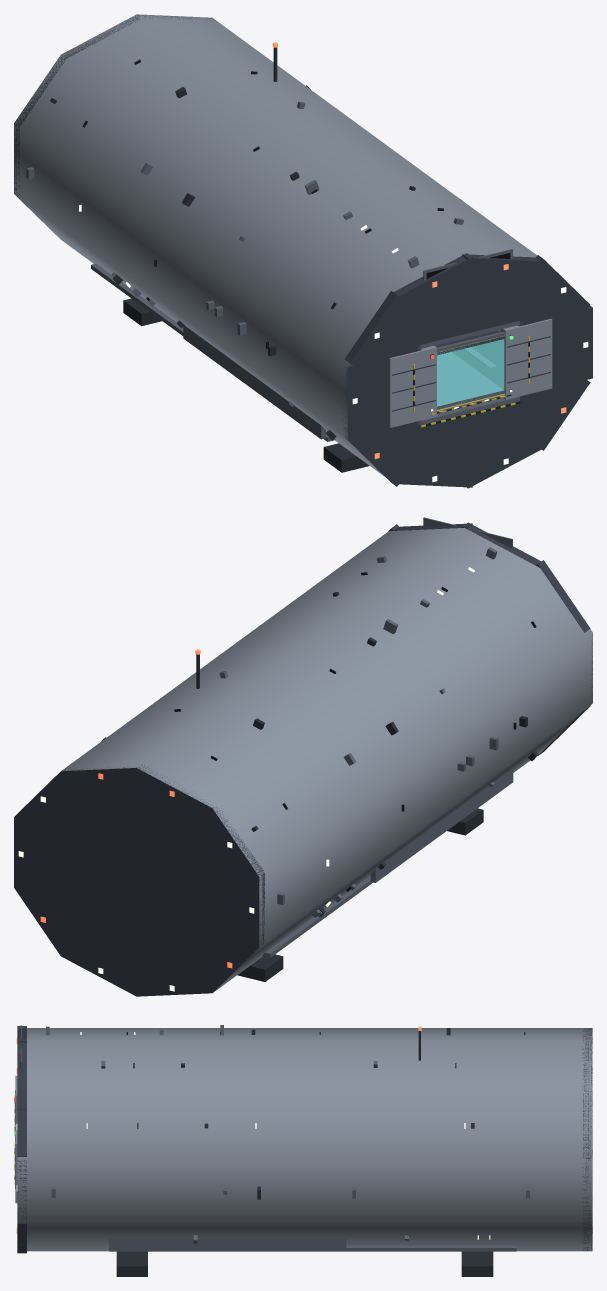
3 views of the same model, one above another, from view 1: azimuth 30°, elevation 25°; view 2: azimuth 150°, elevation 25°; view 3: azimuth 270°, elevation 25° (orthographic). The views are drawn at different scales.
Parts seen in each view (by area): view 1: shellOuter, endPlate0, endPlate8, endPlate4, endPlate6, berthLForceField, endPlate1, endPlate5, endPlate3, berthLBlastHouseR, berthLBlastHouseL, endPlate9 (+11 smaller); view 2: shellOuter, endCapAft, screenWallL, transferDeck, groundSaddleA, endPlate8; view 3: shellOuter, screenWallR, transferDeck, endCapAft, groundSaddleA, groundSaddleF, endPlate1, endPlate0.
Part boxes in pixels (box(x1,y1,x2,y2)): shellOuter: box(14, 14, 537, 477); endPlate0: box(455, 254, 543, 312); endPlate8: box(344, 291, 436, 387); endPlate4: box(456, 405, 543, 488); endPlate6: box(345, 397, 436, 486); berthLForceField: box(437, 339, 503, 406); endPlate1: box(504, 255, 590, 347); endPlate5: box(397, 433, 484, 487); endPlate3: box(504, 358, 590, 450); berthLBlastHouseR: box(500, 318, 552, 399); berthLBlastHouseL: box(389, 345, 436, 427); endPlate9: box(393, 253, 484, 334); shellOuter: box(61, 528, 592, 992); endCapAft: box(14, 764, 264, 996); screenWallL: box(370, 768, 513, 882); transferDeck: box(262, 875, 372, 957); groundSaddleA: box(237, 954, 283, 981); endPlate8: box(536, 560, 590, 632); shellOuter: box(17, 1028, 592, 1251); screenWallR: box(109, 1238, 346, 1250); transferDeck: box(109, 1245, 516, 1251); endCapAft: box(582, 1028, 592, 1251); groundSaddleA: box(461, 1251, 493, 1276); groundSaddleF: box(116, 1251, 147, 1276); endPlate1: box(17, 1087, 26, 1156); endPlate0: box(17, 1039, 26, 1087).
Size of the model in its own units: 26.37 by 26.47 by 58.82.
